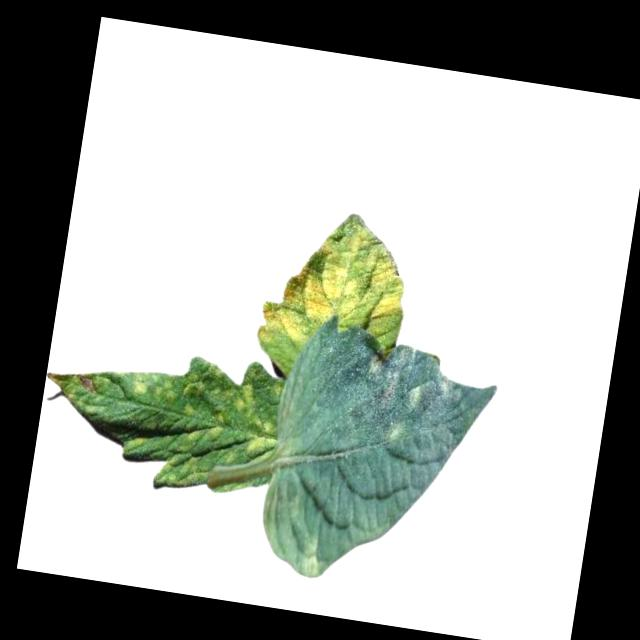Leaf_Mold: (32, 329, 293, 504), (255, 200, 419, 364), (357, 342, 467, 451), (253, 467, 339, 580)
